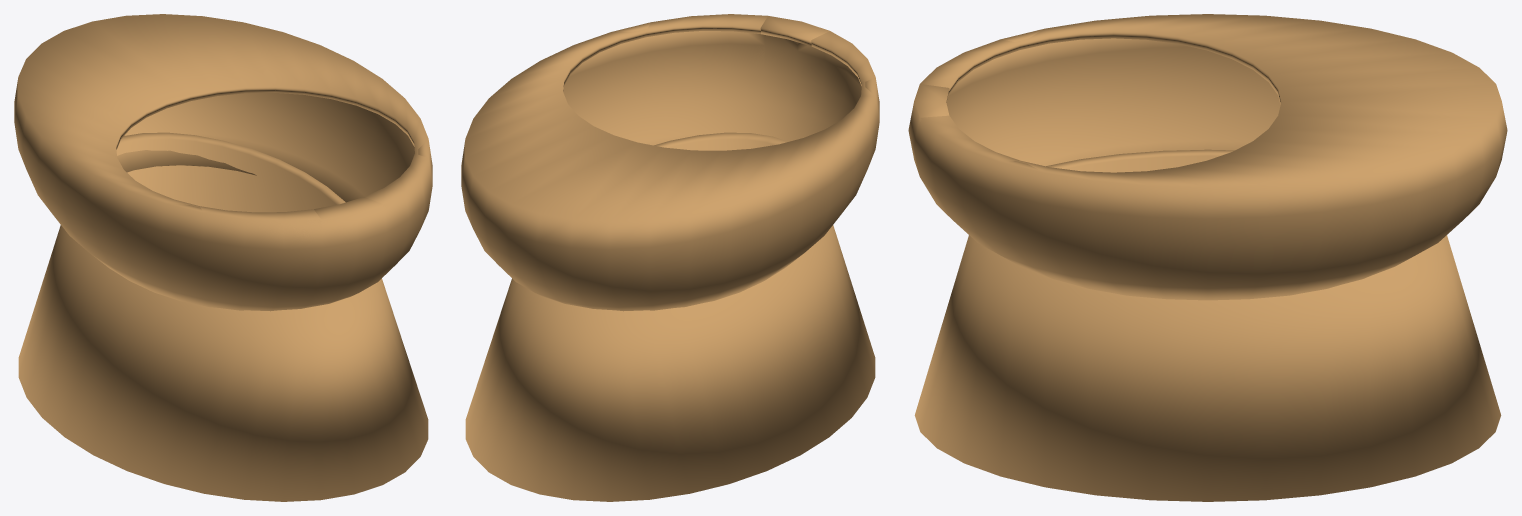
The model's file is pieza5Nave.fbx.
3 views of the same model, side by side, from view 1: azimuth 30°, elevation 25°; view 2: azimuth 150°, elevation 25°; view 3: azimuth 270°, elevation 25° (orthographic). The views are drawn at different scales.
Visible parts, largest first — view 1: Inodoro; view 2: Inodoro; view 3: Inodoro.
Boxes of the visible parts, x1,y1,x2,y2 form: Inodoro: (14, 14, 432, 501); Inodoro: (461, 14, 879, 501); Inodoro: (908, 14, 1507, 501).
Size of the model in its own units: 200 by 166 by 286.
